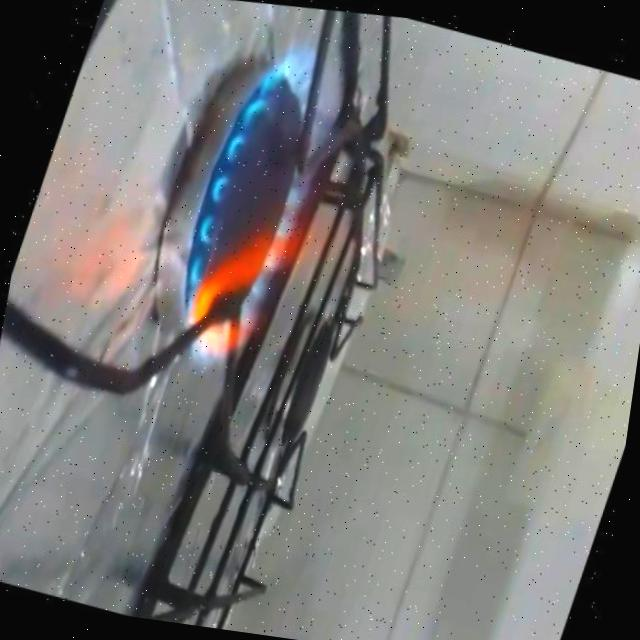fire: (141, 8, 399, 407)
